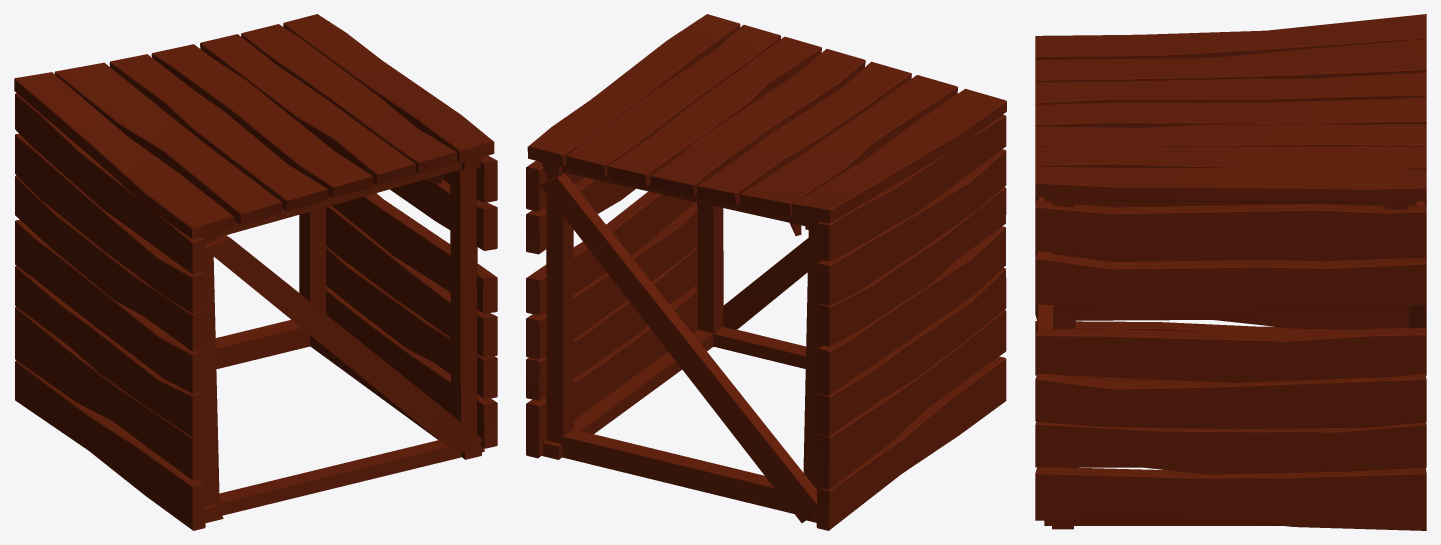
File: echafaudage.FBX
3 renders of one model, left to right at view 1: azimuth 30°, elevation 25°; view 2: azimuth 150°, elevation 25°; view 3: azimuth 270°, elevation 25°, orthographic. The views are drawn at different scales.
Parts seen in each view (by area): view 1: Box015; view 2: Box015; view 3: Box015.
Part boxes in pixels (x1=…): Box015: x1=14, y1=14, x2=497, y2=530; Box015: x1=526, y1=14, x2=1006, y2=530; Box015: x1=1035, y1=14, x2=1426, y2=530.
Bounding box in the file's own units: 2388 × 2404 × 2400.
